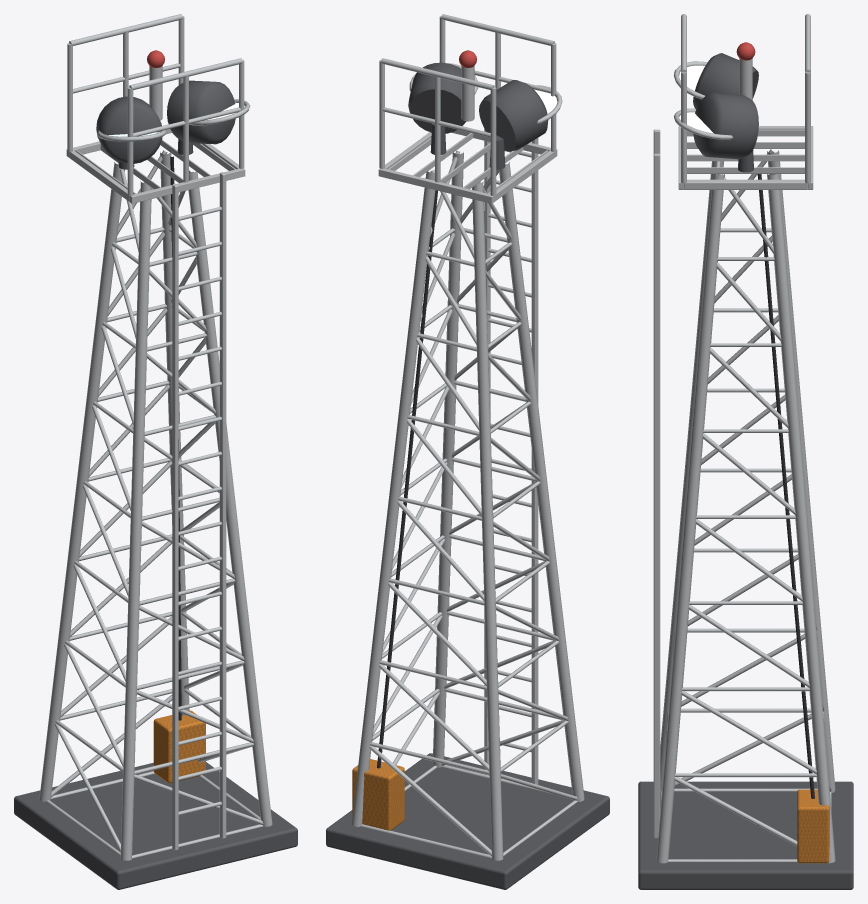
3 views of the same model, side by side, from view 1: azimuth 30°, elevation 25°; view 2: azimuth 150°, elevation 25°; view 3: azimuth 270°, elevation 25° (orthographic). The views are drawn at different scales.
Parts seen in each view (by area): view 1: spotlight-tower; view 2: spotlight-tower; view 3: spotlight-tower.
Boxes of the visible parts, x1=… form: spotlight-tower: x1=14, y1=14, x2=297, y2=889; spotlight-tower: x1=326, y1=14, x2=609, y2=889; spotlight-tower: x1=638, y1=14, x2=853, y2=889.
Bounding box in the file's own units: 1.6 × 6.58 × 1.6.
Materials: 7 (1 with a texture image).
